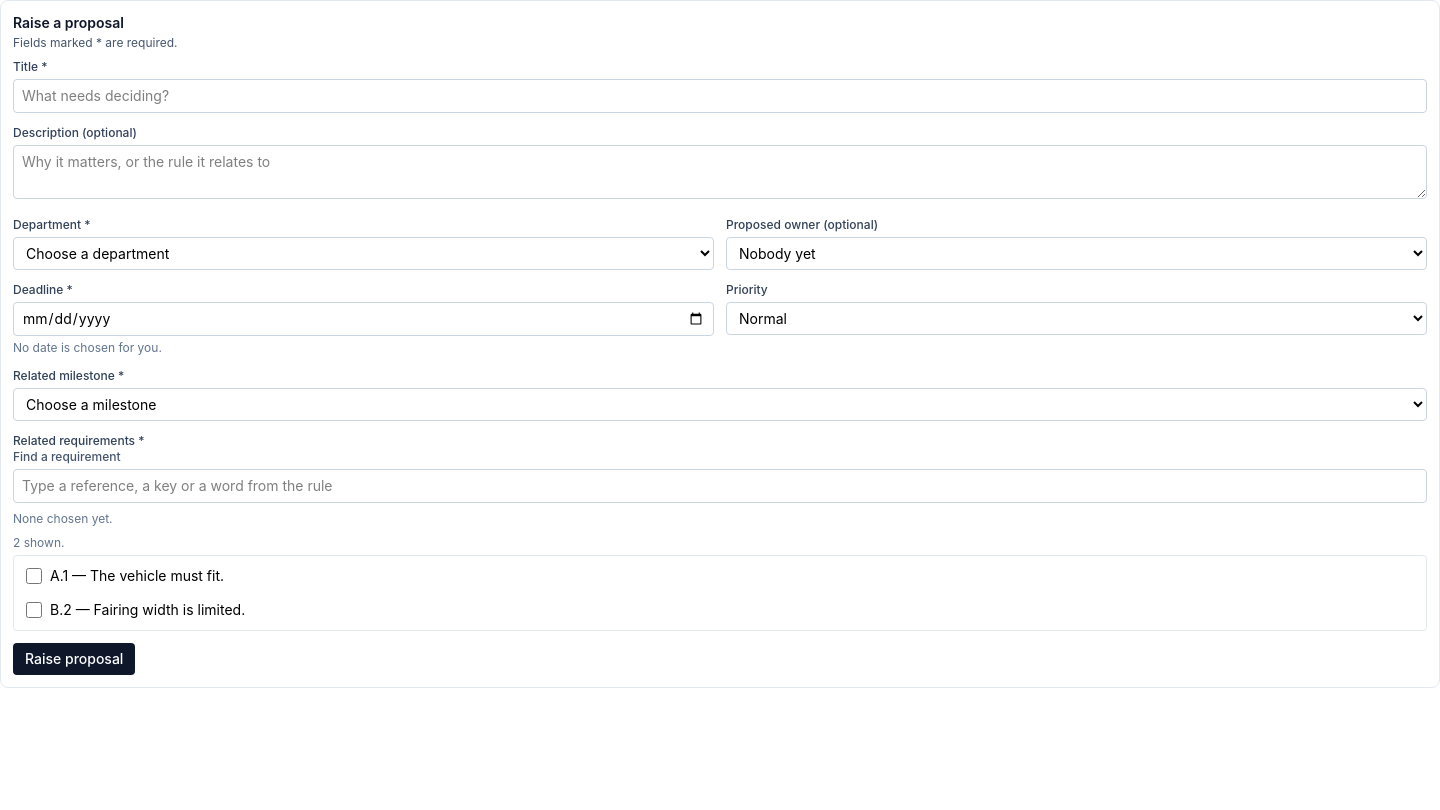
Scenario: each required field refuses on its own › missing department
Step 1. Type "  Mount the wing  " into the field labelled "Title *" → (720, 96), box [13,79,1427,113]
Step 2. Select "Aerodynamics" in the dropdown labelled "Department *" → (364, 254), box [13,237,714,270]
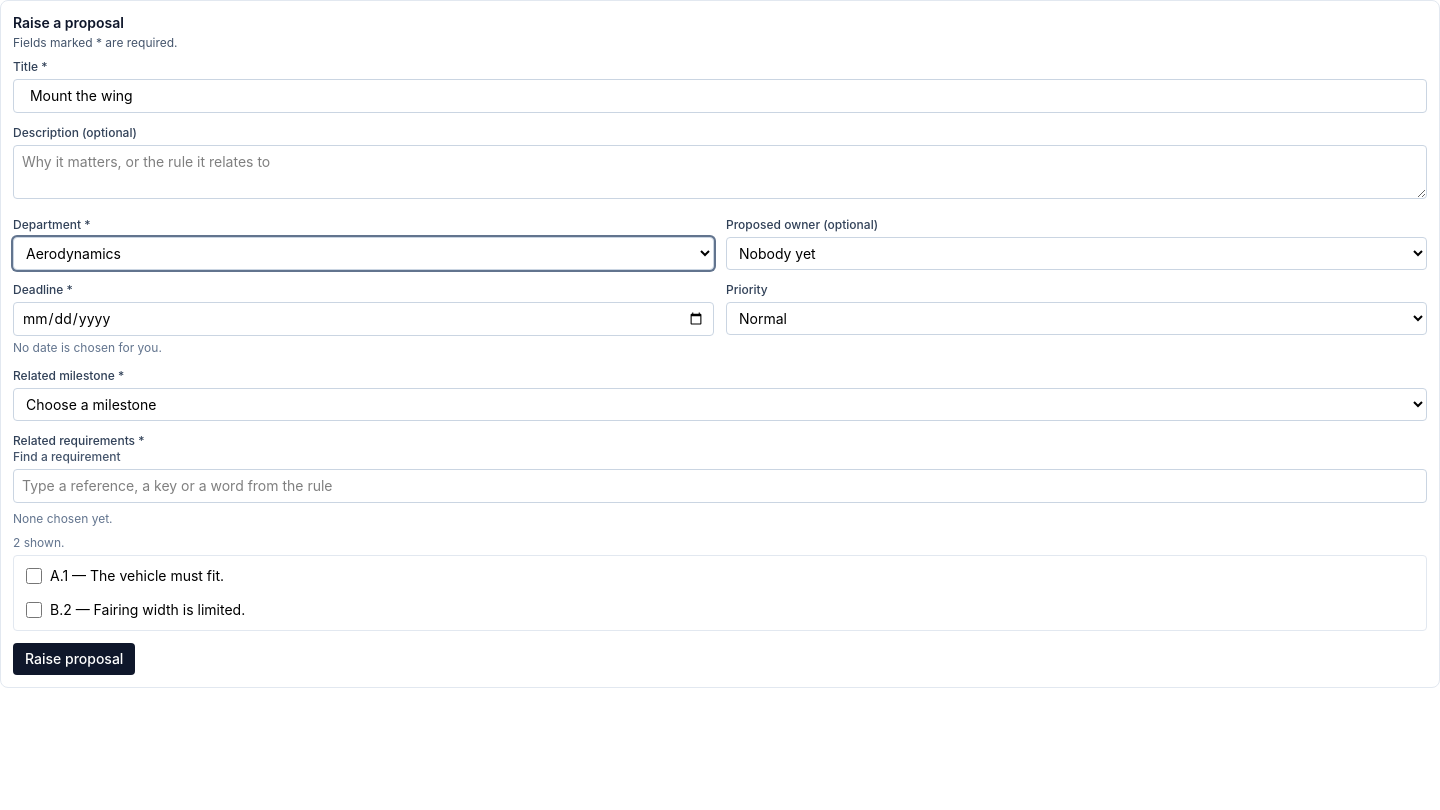
Step 3. Type "2026-12-01" into the date field labelled "Deadline *" → (364, 319), box [13,302,714,336]
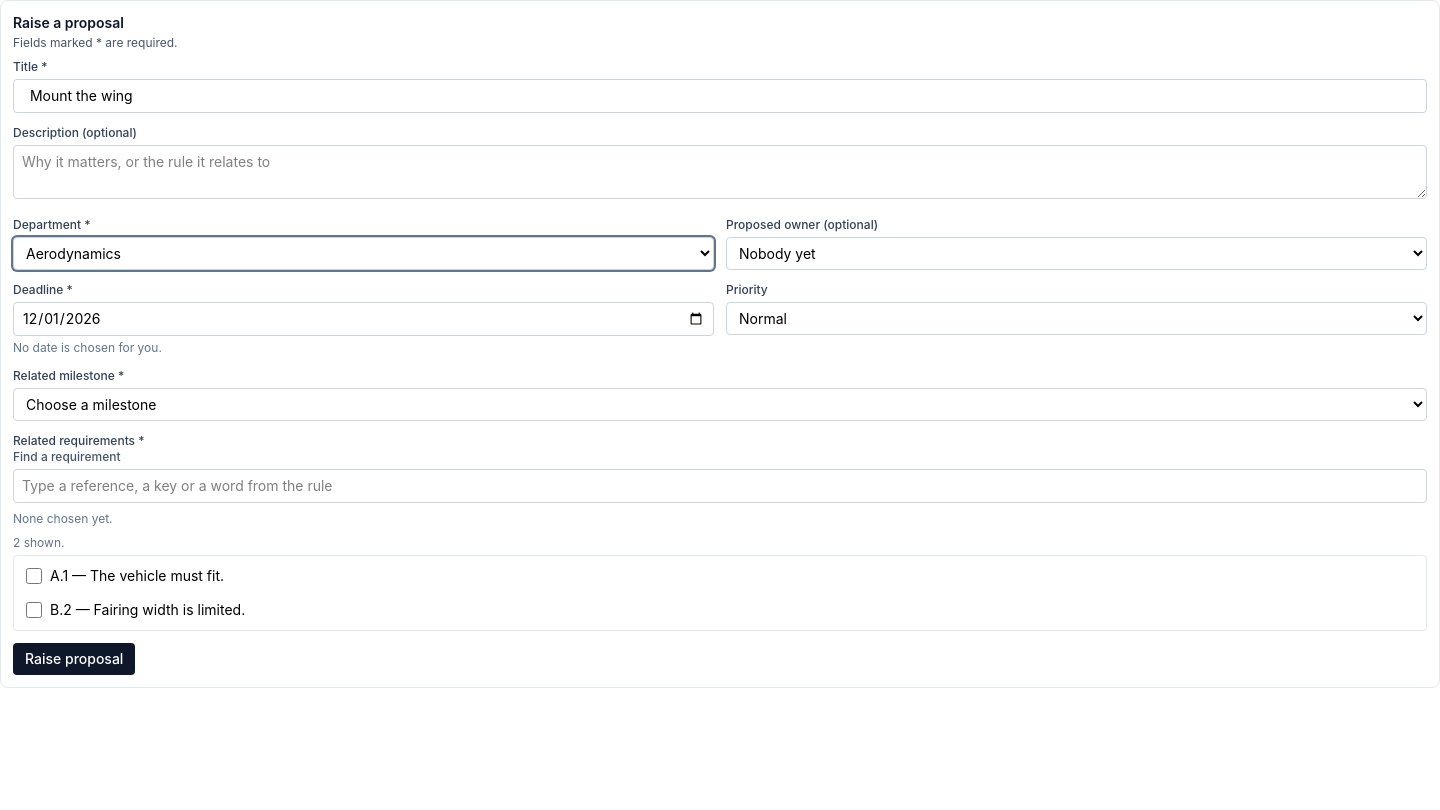
Step 4. Select "MS1 — Team plan" in the dropdown labelled "Related milestone *" → (720, 404), box [13,388,1427,421]
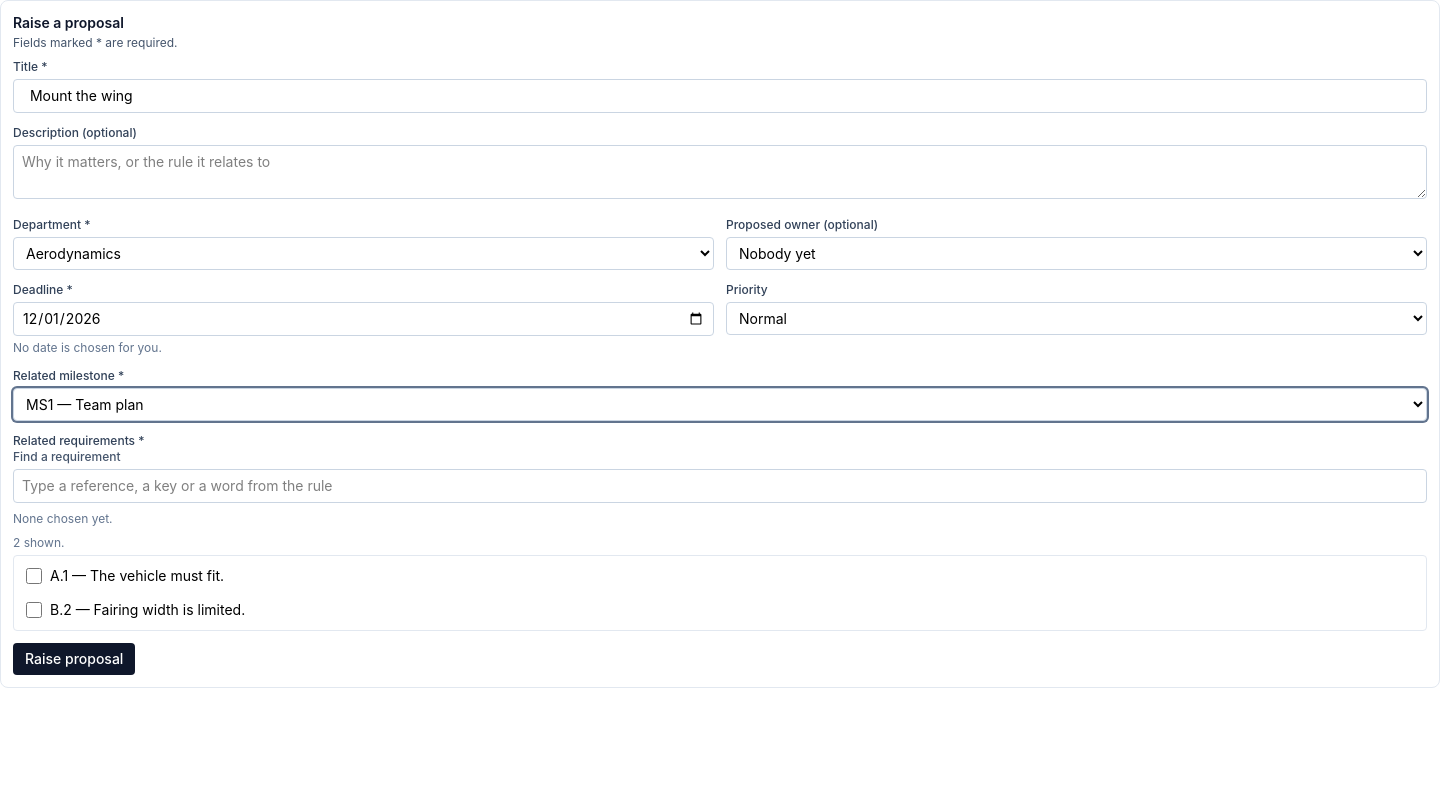
Step 5. Click the checkbox labelled "A.1 — The vehicle must fit." → (34, 576), box [26,568,42,584]
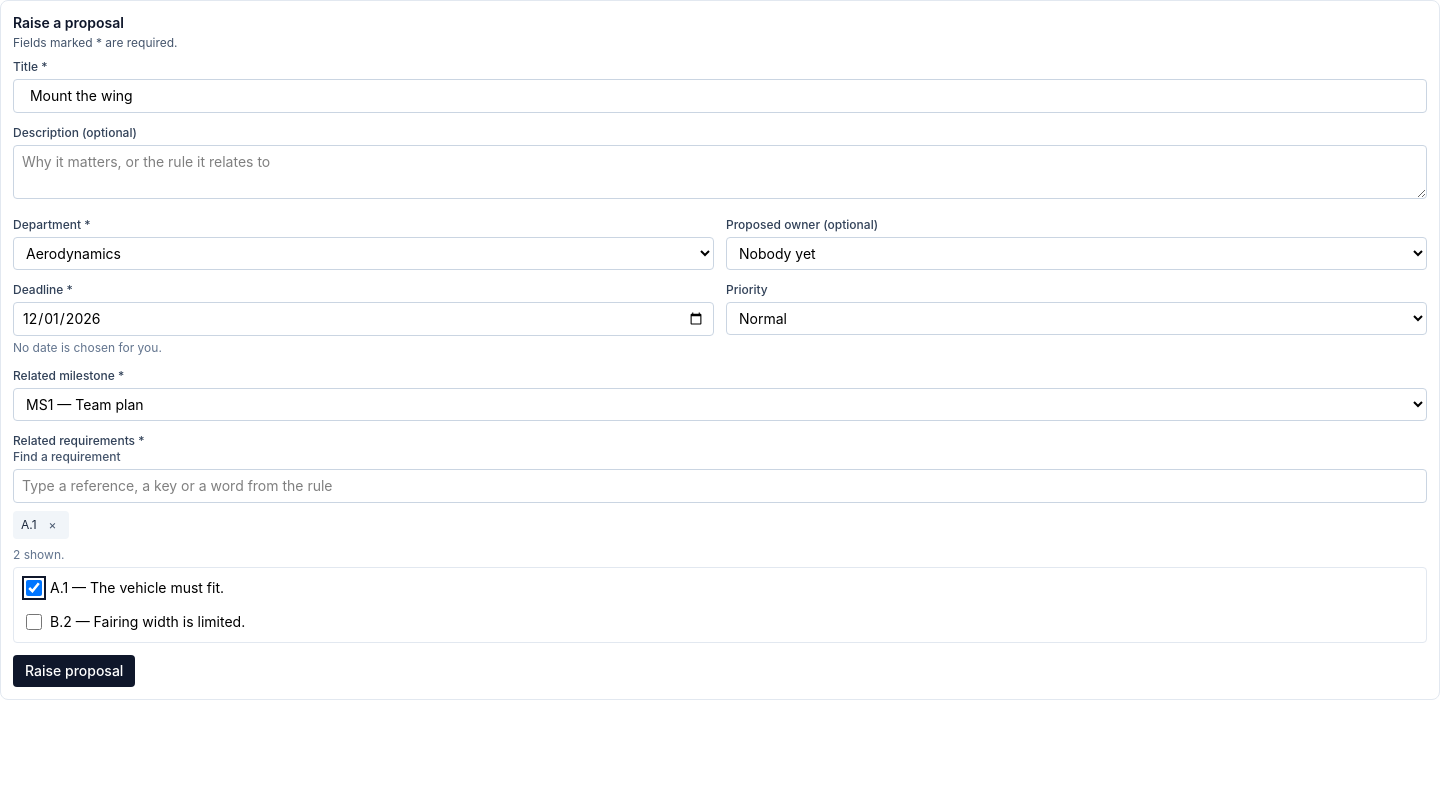
Step 6. Select "Choose a department" in the dropdown labelled "Department *" → (364, 254), box [13,237,714,270]
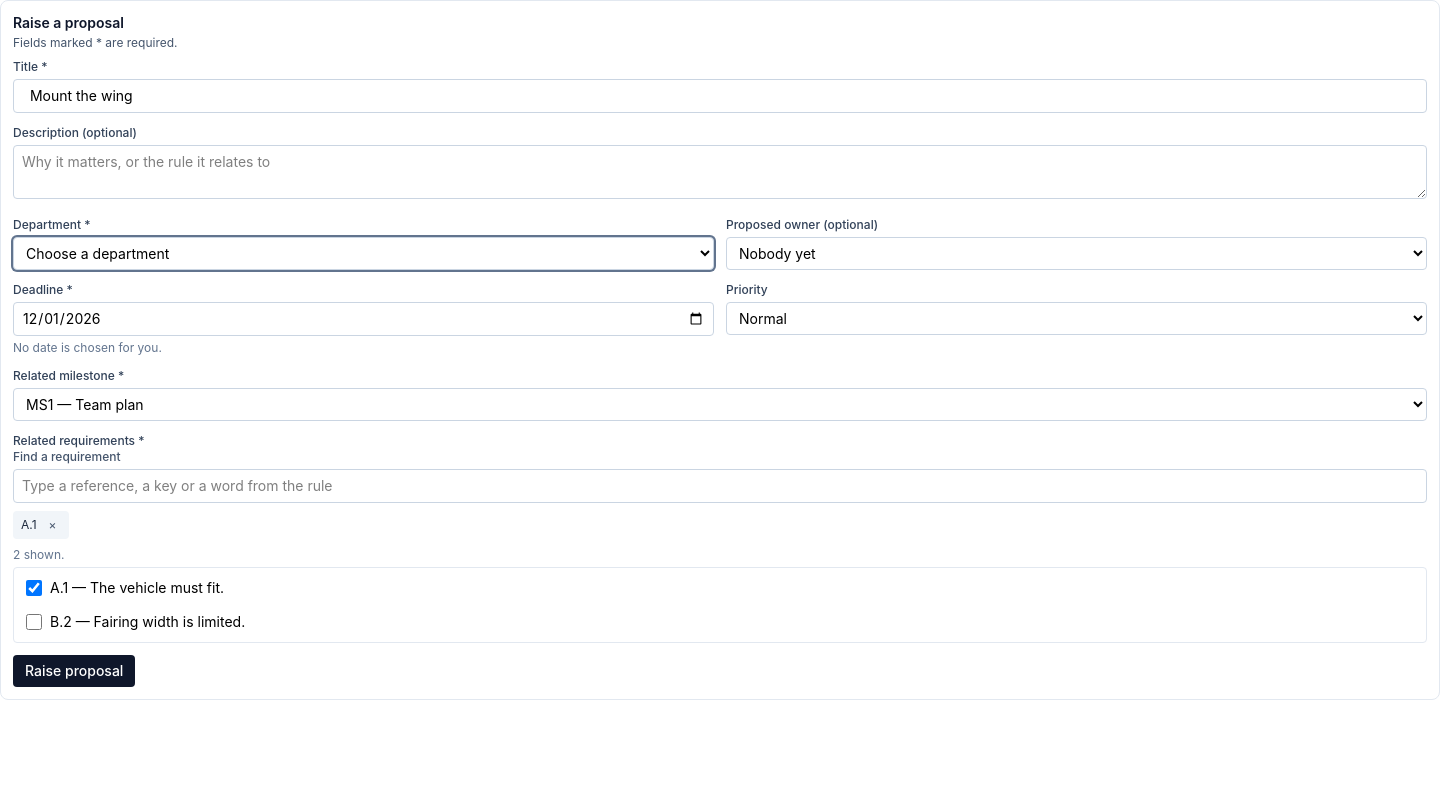
Step 7. Click the button "Raise proposal" → (74, 671), box [13,655,135,687]
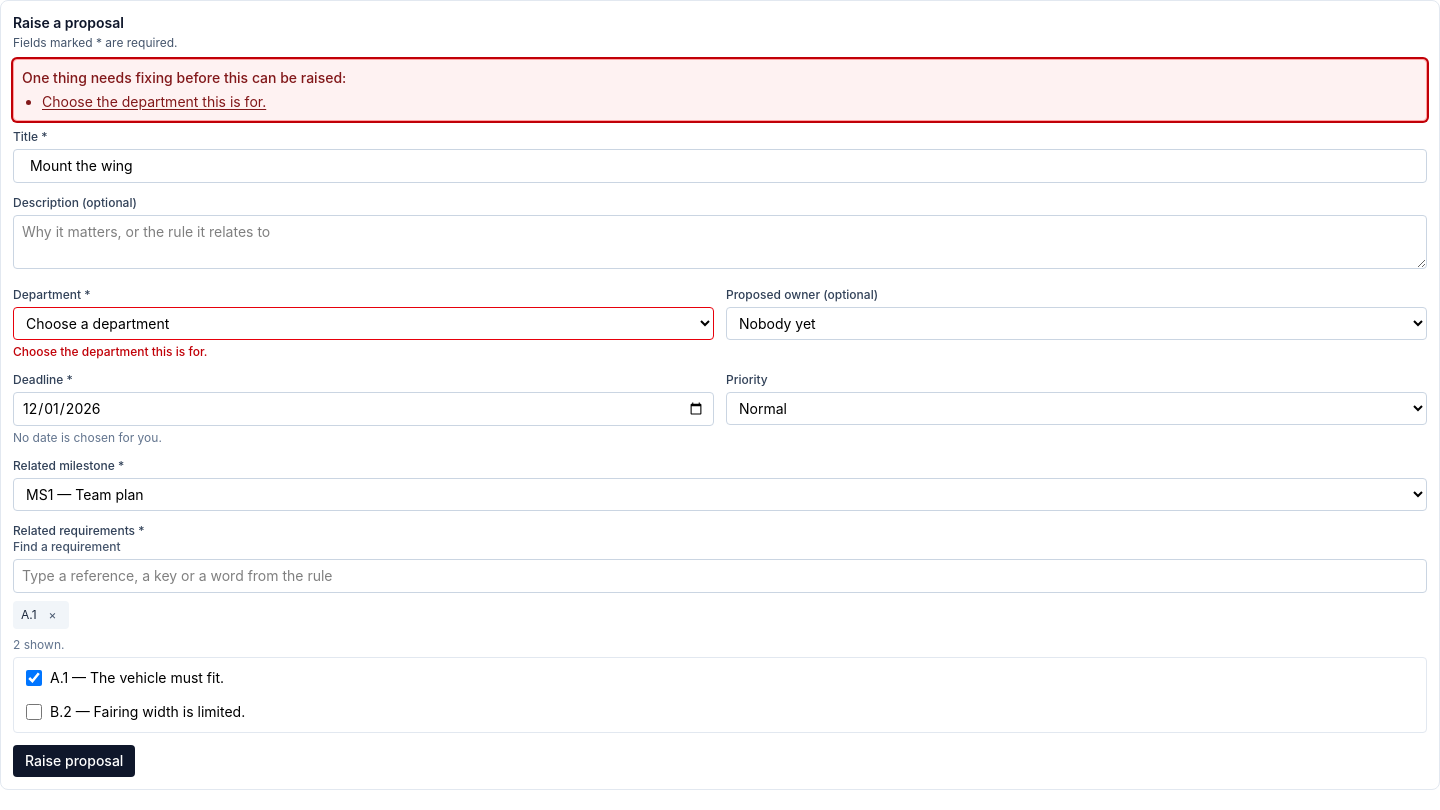
Check: the message with test id "proposal-summary" shows "One thing needs fixing", box [22,69,173,86]
